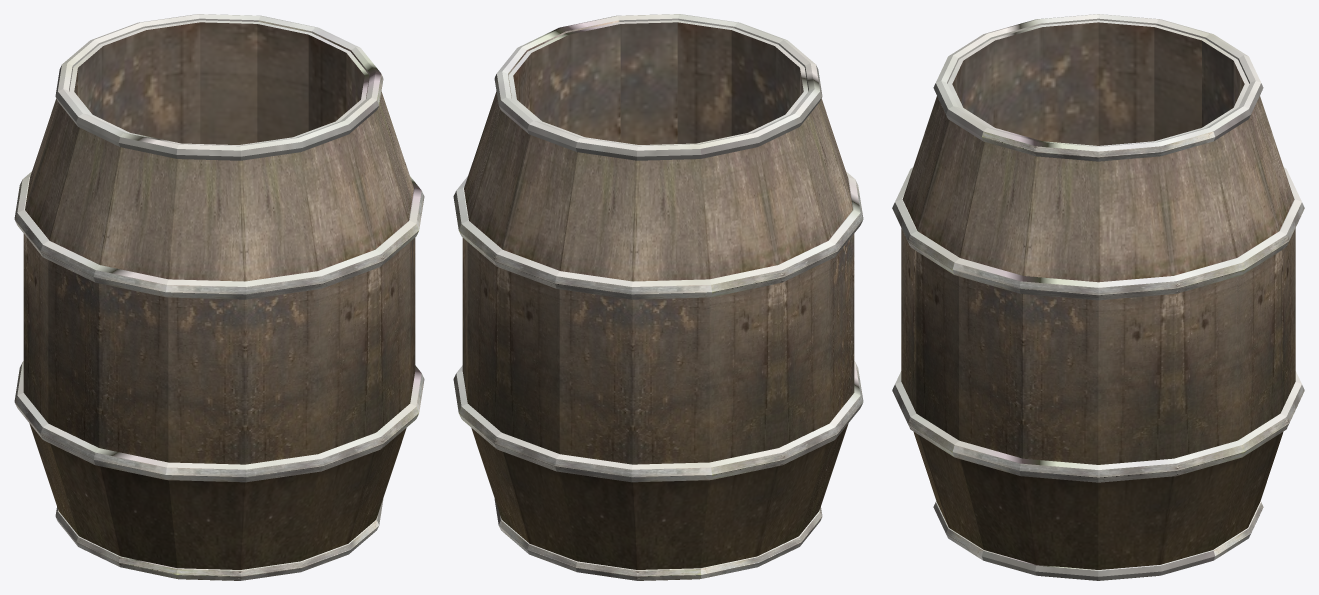
Rendered from barrel.fbx.
The picture shows the model from 3 angles, left to right: view 1: azimuth 30°, elevation 25°; view 2: azimuth 150°, elevation 25°; view 3: azimuth 270°, elevation 25°; orthographic projection.
Visible parts, largest first — view 1: barrel; view 2: barrel; view 3: barrel.
Part boxes in pixels (bbox=[...]): barrel: bbox=[14, 14, 424, 580]; barrel: bbox=[453, 14, 863, 580]; barrel: bbox=[892, 14, 1304, 580].
Size of the model in its own units: 103 by 119 by 103.
Materials: 1 (1 with a texture image).
